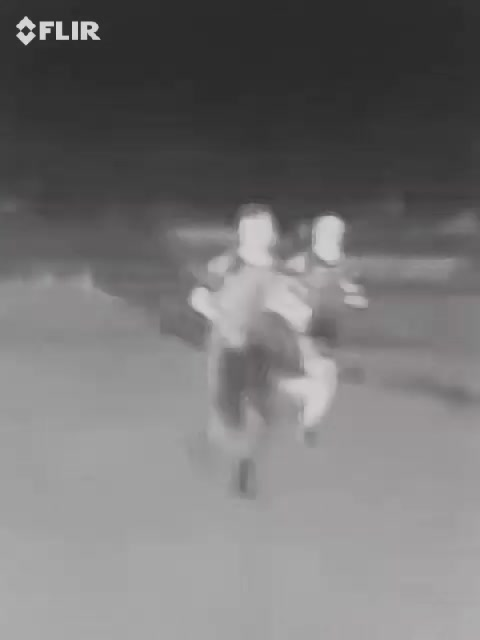head: (229, 198, 282, 260)
